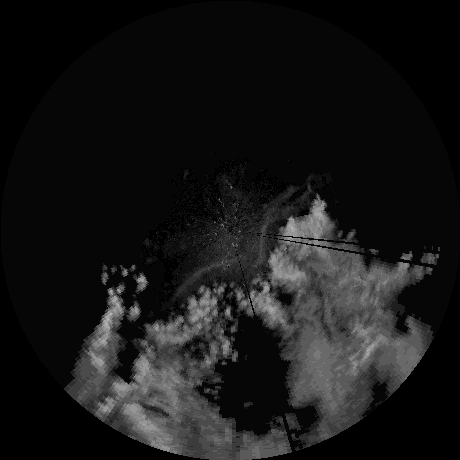frontgust: (257, 188, 311, 261), (173, 256, 241, 301)
